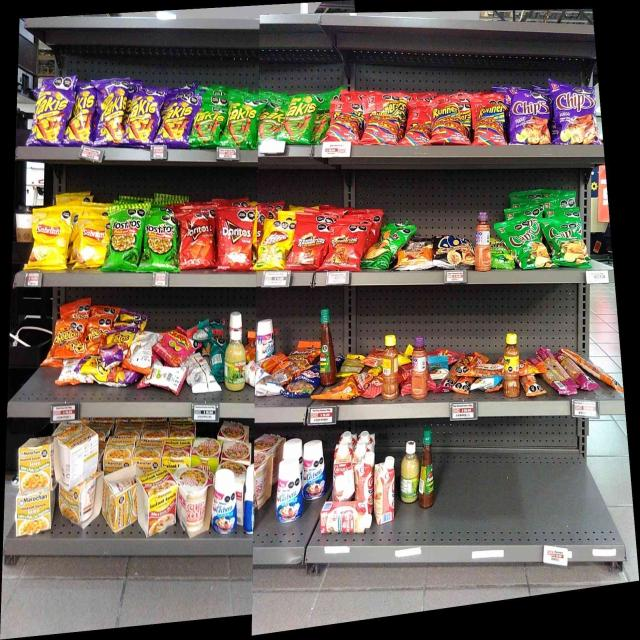bitzEnchilado95: (454, 362, 503, 377)
bitzHabanero: (540, 350, 592, 392)
bokadosCacahuates: (299, 368, 319, 397)
botaneraChilito: (382, 334, 400, 399), (505, 333, 521, 398)
cheetosFlaminHot: (82, 366, 133, 386), (104, 330, 128, 365)
cheetosOriginal: (56, 320, 84, 358)
chipsFuego: (553, 82, 598, 145), (510, 89, 550, 145)
chipsJalapeno: (549, 215, 587, 269), (508, 218, 545, 268)
churrumais: (160, 329, 194, 356)
delPrimoSalsa: (223, 328, 247, 392), (402, 441, 418, 504)
doritosNacho: (218, 208, 252, 272), (178, 208, 214, 268)
fritosLimon: (260, 220, 288, 269)
hotNutsOriginal: (399, 243, 433, 270)
maruchanPollo: (56, 424, 95, 484), (103, 471, 137, 527), (20, 440, 53, 490), (60, 486, 100, 526), (17, 495, 52, 534)
maruchanRes: (140, 470, 177, 532)
nestleCarnation: (322, 502, 372, 534), (334, 445, 354, 500)
nestleLechera: (277, 461, 301, 522), (214, 470, 236, 532), (304, 444, 325, 499), (257, 320, 275, 355)
nissinRes: (179, 467, 212, 534)
popKarameladas: (437, 233, 473, 270)
productoAtras: (374, 456, 396, 524), (187, 358, 213, 392), (133, 328, 156, 366), (147, 367, 183, 391), (356, 454, 373, 499), (264, 358, 297, 379)
rancheritos: (293, 219, 325, 270), (329, 228, 364, 271)
rufflesQueso: (370, 230, 398, 268)
runners: (472, 100, 505, 146), (432, 101, 465, 144), (367, 102, 398, 147), (329, 101, 361, 142), (407, 107, 429, 145)
sabritasOriginal: (32, 210, 69, 270), (76, 216, 106, 268)
salsaBufalo: (320, 308, 338, 386), (419, 427, 435, 508)
tajinDulce: (474, 211, 492, 270), (412, 334, 428, 400)
takisFuego: (35, 79, 66, 147), (96, 85, 124, 145), (128, 90, 156, 146), (159, 94, 188, 148), (68, 86, 92, 146)
takisOriginal: (224, 96, 257, 149), (286, 92, 315, 145), (192, 104, 222, 148), (260, 105, 284, 144)
tostitos: (109, 206, 142, 270), (144, 214, 176, 272)
